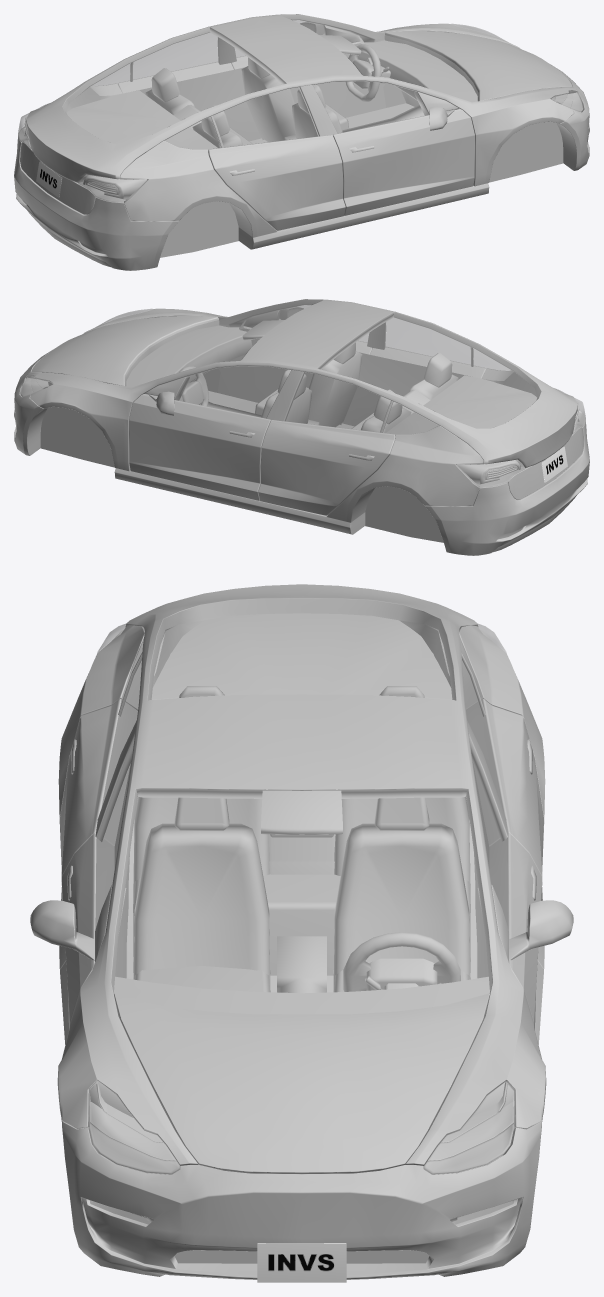
The model's file is body.dae.
3 views of the same model, one above another, from view 1: azimuth 30°, elevation 25°; view 2: azimuth 150°, elevation 25°; view 3: azimuth 270°, elevation 25° (orthographic). The views are drawn at different scales.
Visible parts, largest first — view 1: Body; view 2: Body; view 3: Body.
Part boxes in pixels (x1,y1,x2,y2): Body: (14,14,589,270); Body: (14,299,589,555); Body: (30,584,573,1282).
Bounding box in the file's own units: 479 × 216 × 129.
